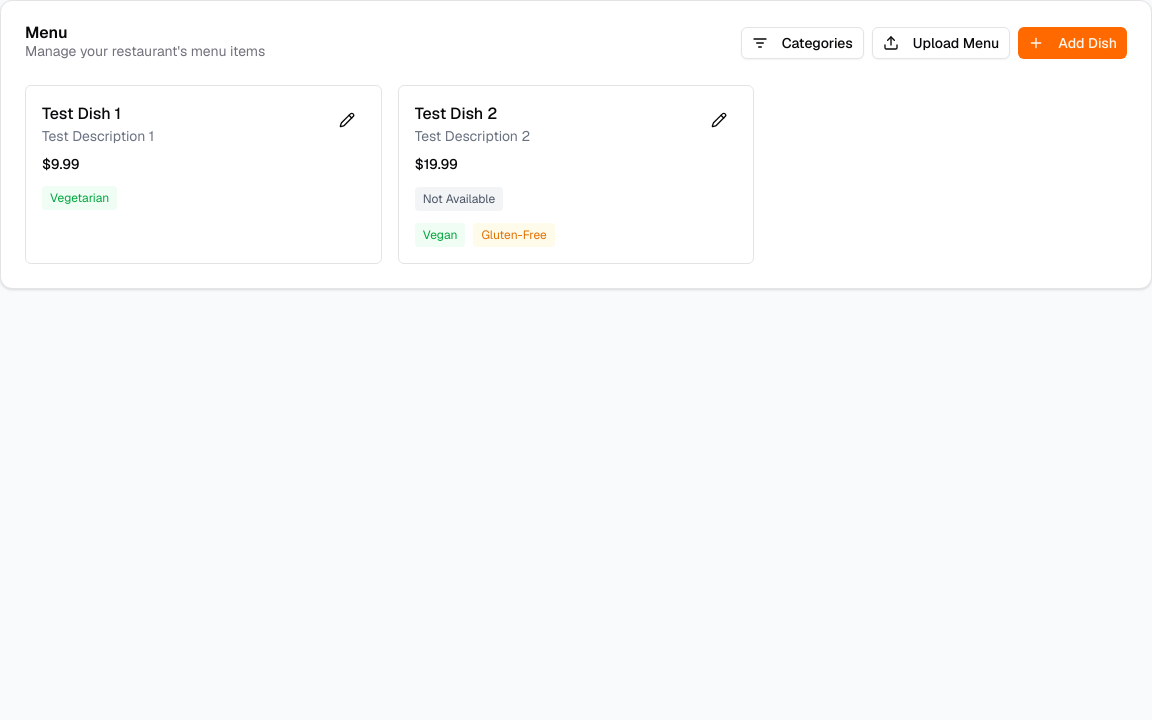
Test: Menu Component › opens upload menu dialog when clicking upload button
Click the button "Upload Menu": (941, 43) [872,27,1010,59]
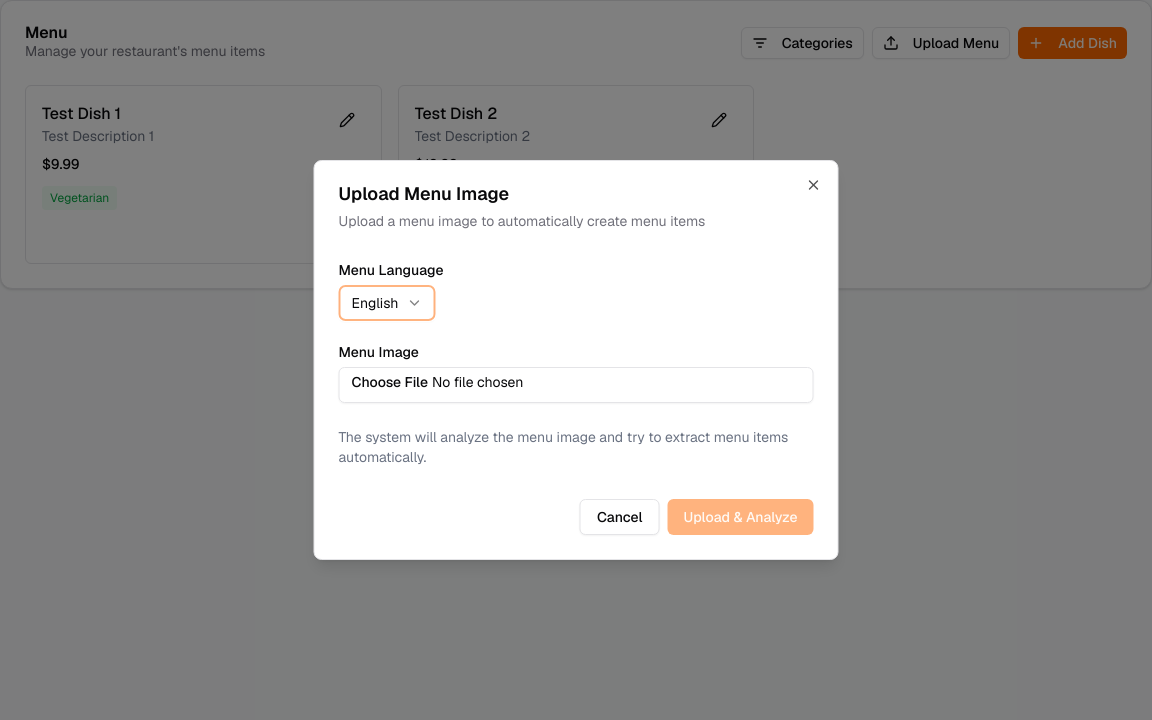
Expected: the dialog is shown, [314,160,838,560]
